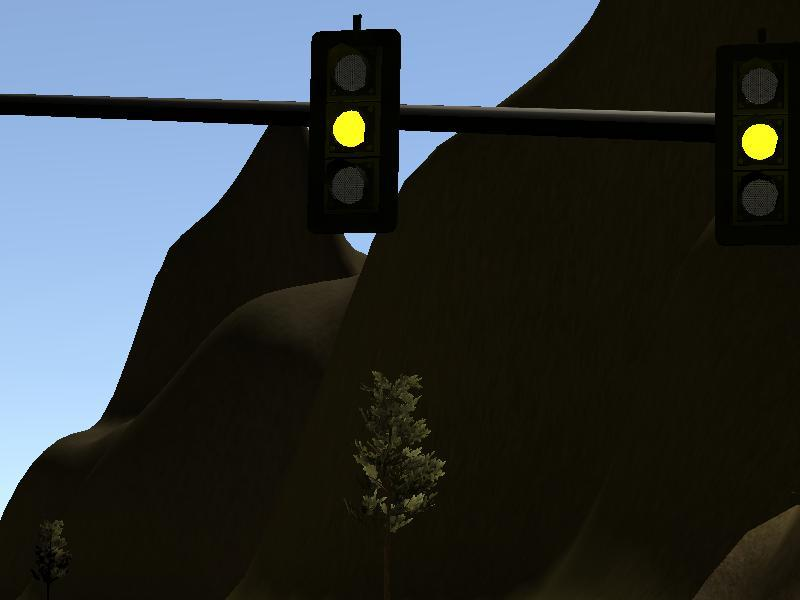Yellow: (309, 26, 399, 231), (715, 46, 800, 244)
